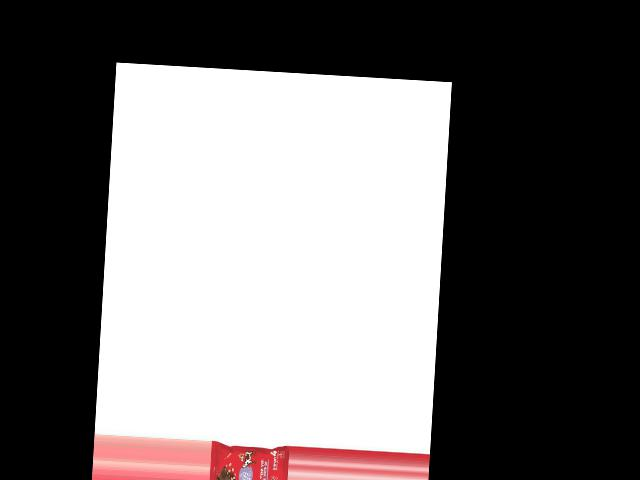chocolate: (208, 443, 290, 480)
